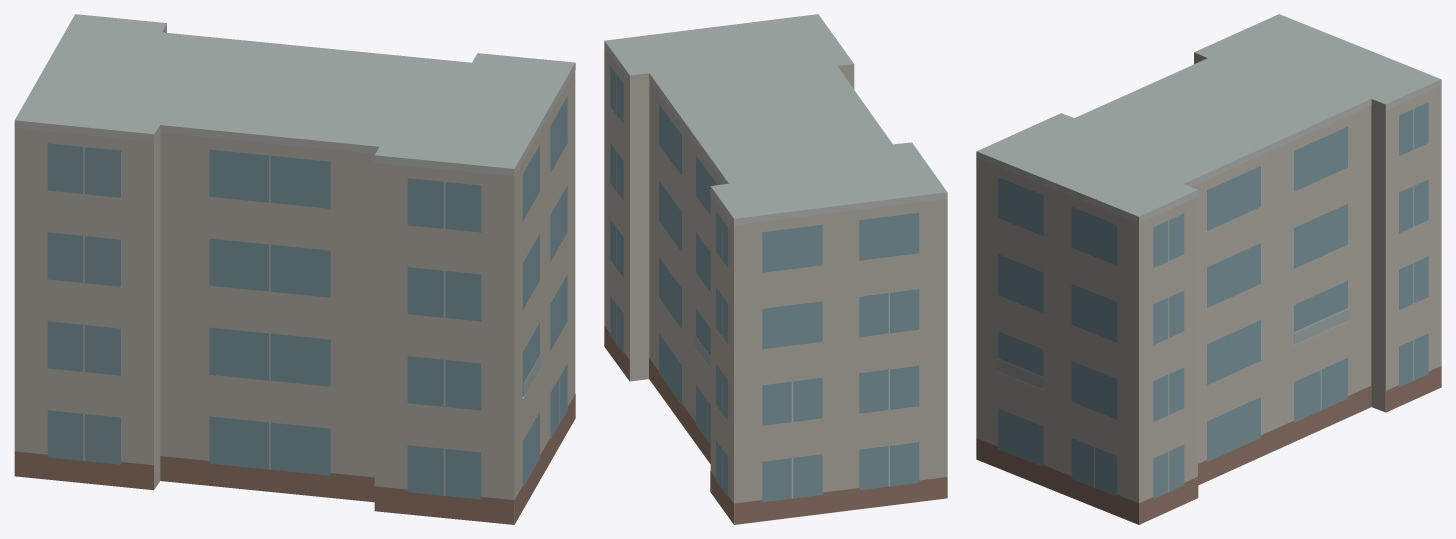
The model's file is survey-upis-32507142.glb.
The picture shows the model from 3 angles, left to right: view 1: azimuth 30°, elevation 25°; view 2: azimuth 150°, elevation 25°; view 3: azimuth 270°, elevation 25°; orthographic projection. The views are drawn at different scales.
Visible parts, largest first — view 1: survey-upis-32507142.tmp; view 2: survey-upis-32507142.tmp; view 3: survey-upis-32507142.tmp.
Part boxes in pixels (x1,y1,x2,y2): survey-upis-32507142.tmp: (14,14,575,524); survey-upis-32507142.tmp: (604,14,947,524); survey-upis-32507142.tmp: (976,14,1441,524).
Size of the model in its own units: 16.24 by 11.5 by 15.74.
